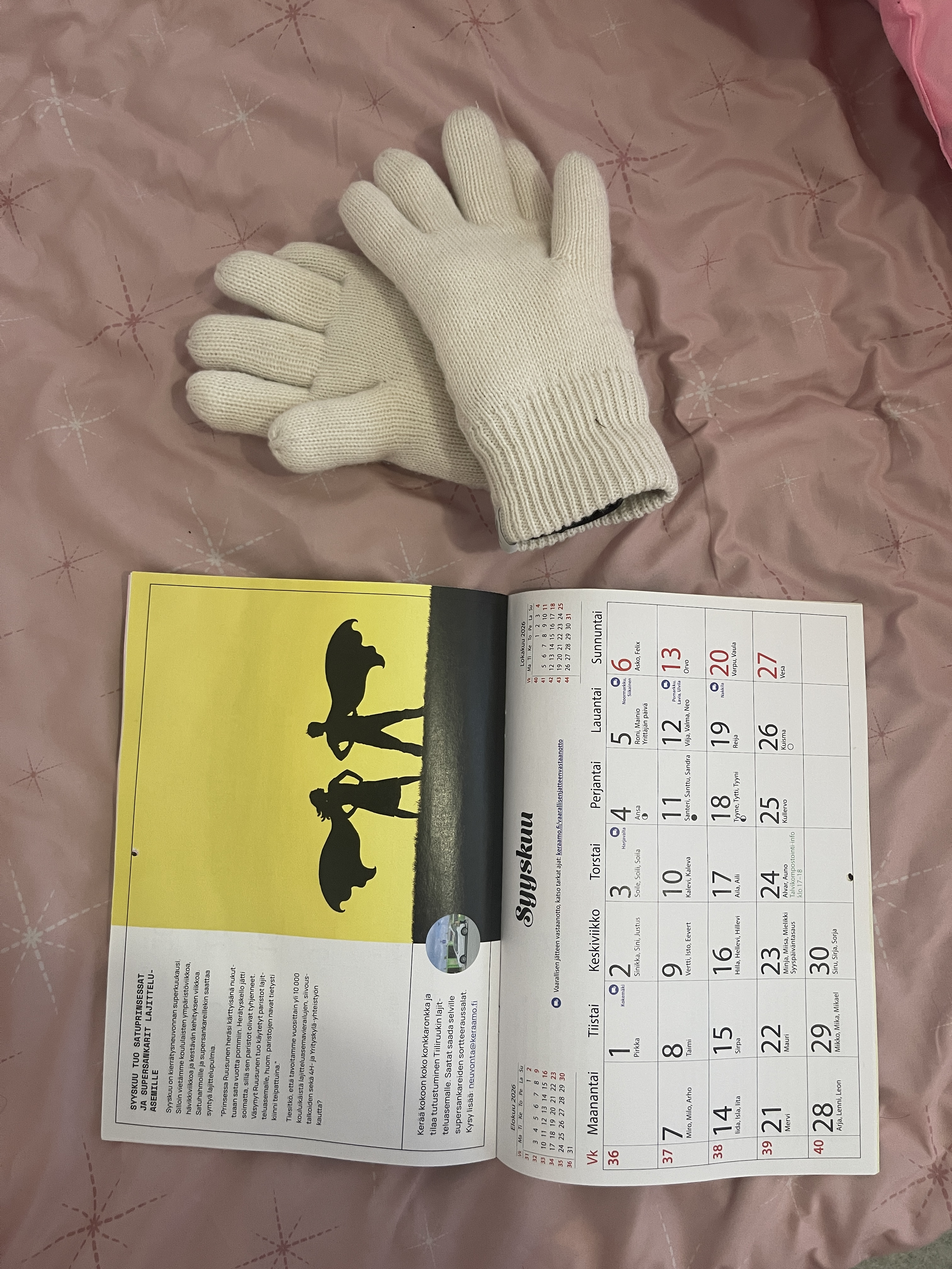paper: (100, 566, 882, 1193)
